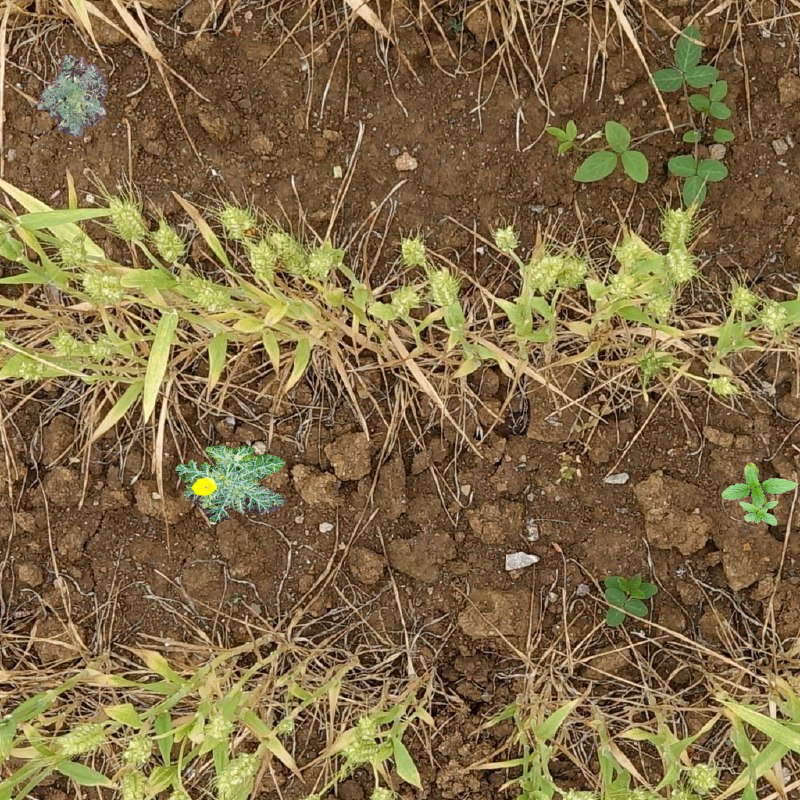spikelet: (214, 751, 258, 798), (106, 195, 147, 243), (269, 230, 310, 277), (55, 720, 108, 756), (151, 220, 188, 263), (80, 268, 125, 303), (525, 252, 561, 294), (426, 265, 460, 308), (659, 204, 692, 246), (306, 241, 344, 277), (218, 203, 255, 239), (664, 245, 697, 283), (684, 760, 720, 793), (121, 731, 154, 766), (556, 255, 589, 290), (248, 241, 276, 280), (757, 298, 789, 332), (117, 766, 148, 800), (56, 237, 88, 269), (606, 268, 639, 299), (728, 281, 758, 315), (398, 234, 428, 267), (203, 710, 233, 742), (389, 284, 420, 314), (492, 223, 520, 253), (706, 372, 739, 397), (636, 349, 665, 377), (88, 334, 118, 361), (50, 329, 79, 356), (354, 713, 380, 743), (273, 708, 298, 737), (18, 359, 46, 382), (557, 788, 604, 800), (619, 785, 659, 799), (367, 784, 398, 800), (668, 785, 697, 800)
weed: (175, 445, 287, 523), (552, 110, 653, 192), (37, 54, 109, 138), (721, 462, 799, 526), (657, 22, 720, 90), (684, 73, 738, 147), (660, 151, 728, 208), (594, 576, 658, 627)
